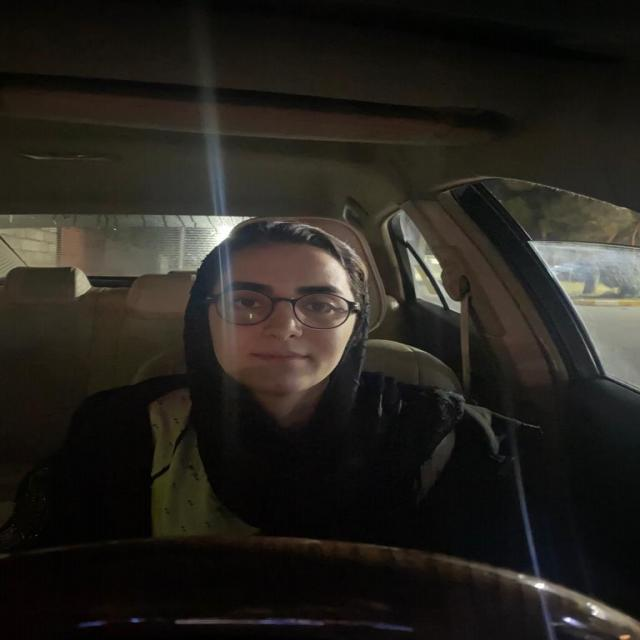person: (188, 226, 367, 400)
